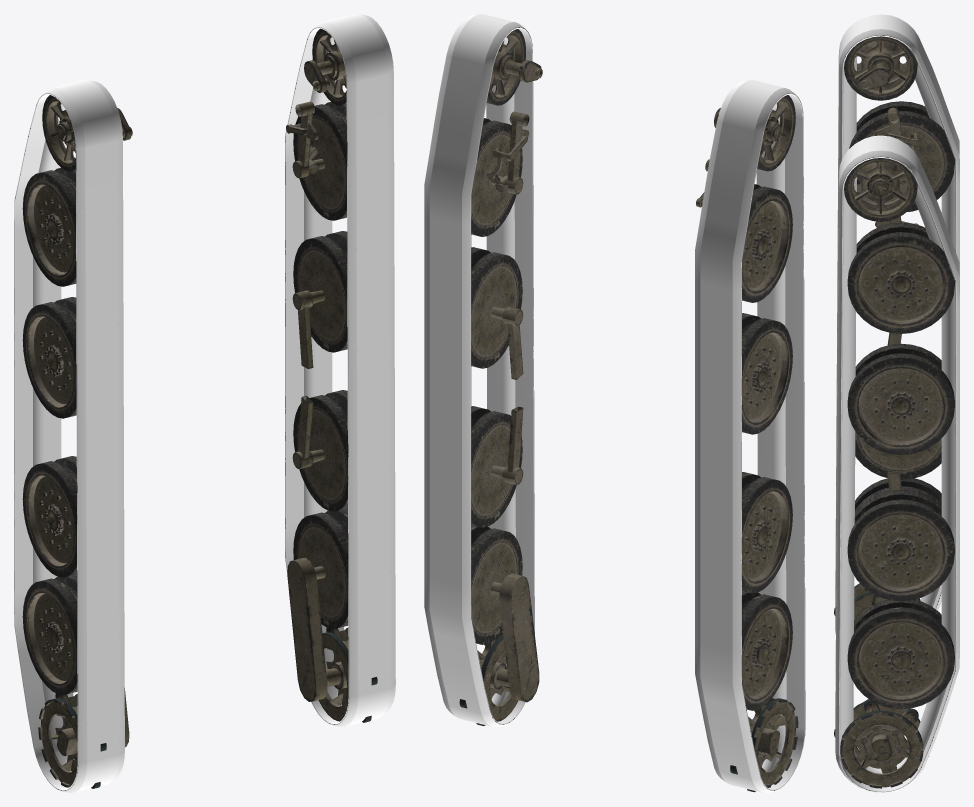
File: Chassis.glb
3 renders of one model, left to right at view 1: azimuth 30°, elevation 25°; view 2: azimuth 150°, elevation 25°; view 3: azimuth 270°, elevation 25°, orthographic. The views are drawn at different scales.
Parts seen in each view (by area): view 1: set_0_group_0, set_1_group_0, set_3_group_0, set_2_group_0; view 2: set_0_group_0, set_1_group_0, set_3_group_0, set_2_group_0; view 3: set_3_group_0, set_1_group_0, set_2_group_0, set_0_group_0.
Boxes of the visible parts, x1,y1,x2,y2 form: set_0_group_0: (14,80,124,792); set_1_group_0: (285,14,395,726); set_3_group_0: (286,28,377,722); set_2_group_0: (22,95,132,788); set_0_group_0: (695,80,805,792); set_1_group_0: (424,14,534,726); set_3_group_0: (459,29,542,725); set_2_group_0: (696,95,798,792); set_3_group_0: (834,158,954,788); set_1_group_0: (835,135,959,792); set_2_group_0: (834,36,954,623); set_0_group_0: (835,14,959,633).
Size of the model in its own units: 2.56 by 5.39 by 0.9555.
Materials: 4 (2 with a texture image).
